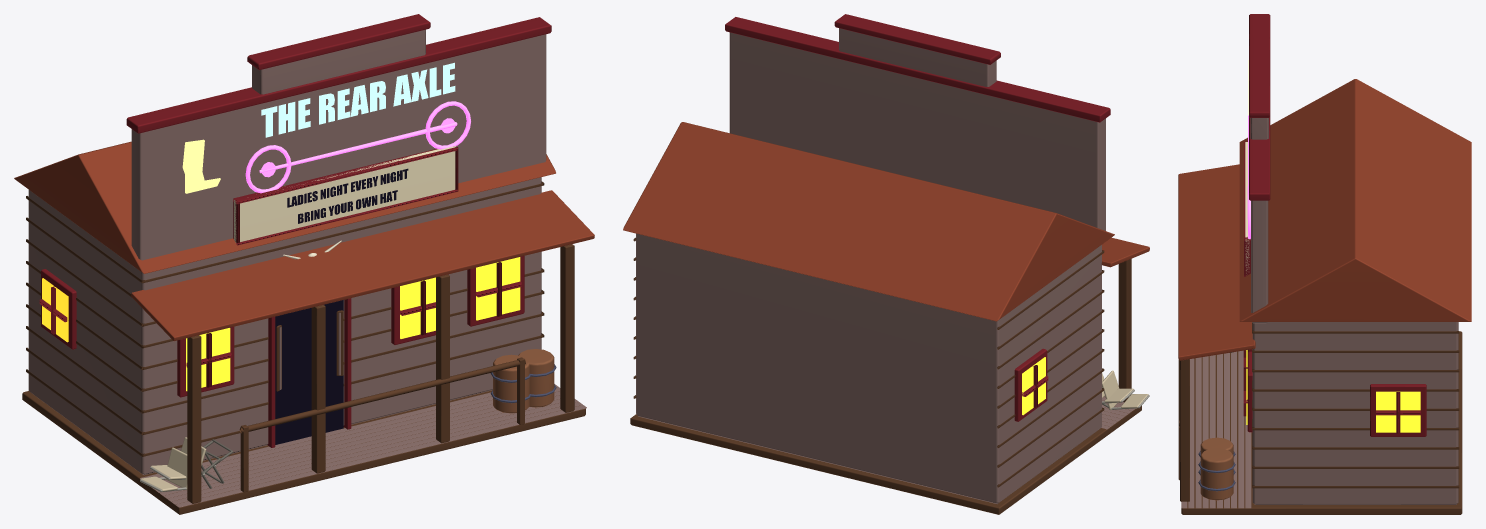
The model's file is rear_axle.glb.
3 renders of one model, left to right at view 1: azimuth 30°, elevation 25°; view 2: azimuth 150°, elevation 25°; view 3: azimuth 270°, elevation 25°, orthographic. The views are drawn at different scales.
Visible parts, largest first — view 1: Saloon, Sign, NeonWheels, NeonBoot; view 2: Saloon; view 3: Saloon.
Boxes of the visible parts, x1,y1,x2,y2 form: Saloon: (14,14,594,514); Sign: (259,62,457,173); NeonWheels: (245,101,470,193); NeonBoot: (182,139,220,193); Saloon: (623,14,1149,514); Saloon: (1178,14,1471,514).
Size of the model in its own units: 6.26 by 5.47 by 4.13.
